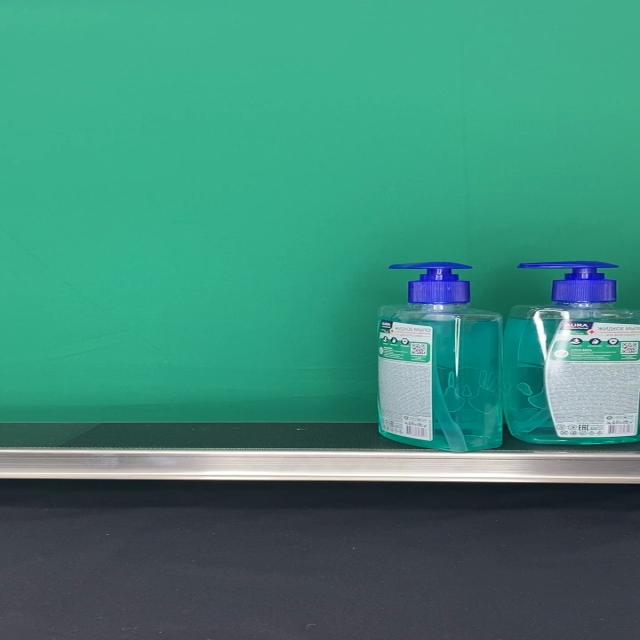Bottle: (504, 261, 640, 444), (375, 262, 503, 451)
Cap: (518, 262, 618, 304), (390, 262, 472, 304)
